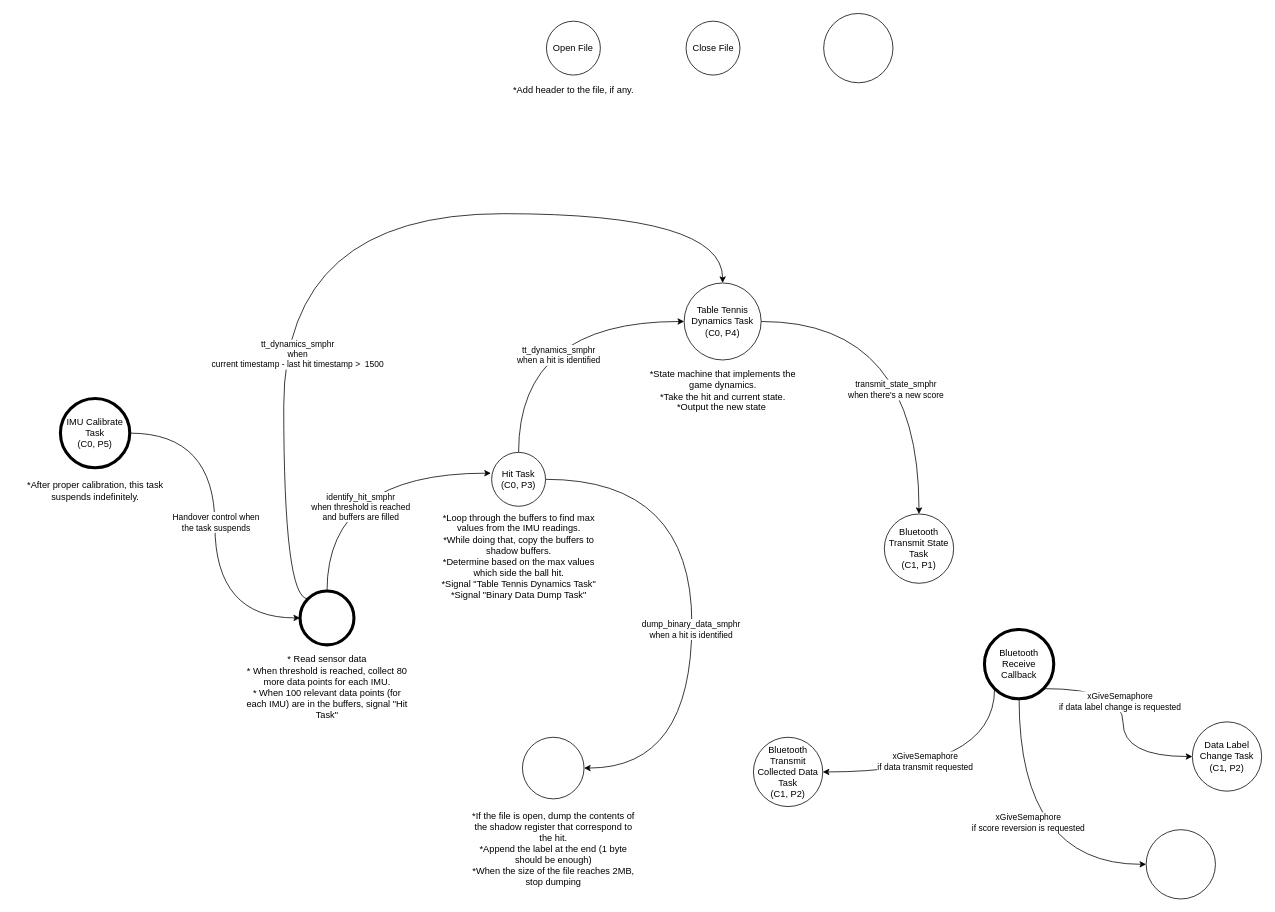
The diagram is 1275 pixels wide and 912 high, and some of its shapes have lost their labels. The shapes that lost their labels are listed below. From the top down, each one's centre as x and y in pixels, then its label:
pixel 858 48: Task Name (Core, Priority)
pixel 326 617: IMU Task (C0, P2)
pixel 553 768: Binary Data Dump Task (C1, P1)
pixel 1180 864: Revert Recent Scoring Task (C0, P5)
